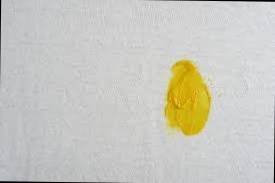mustard: (160, 57, 213, 139)
